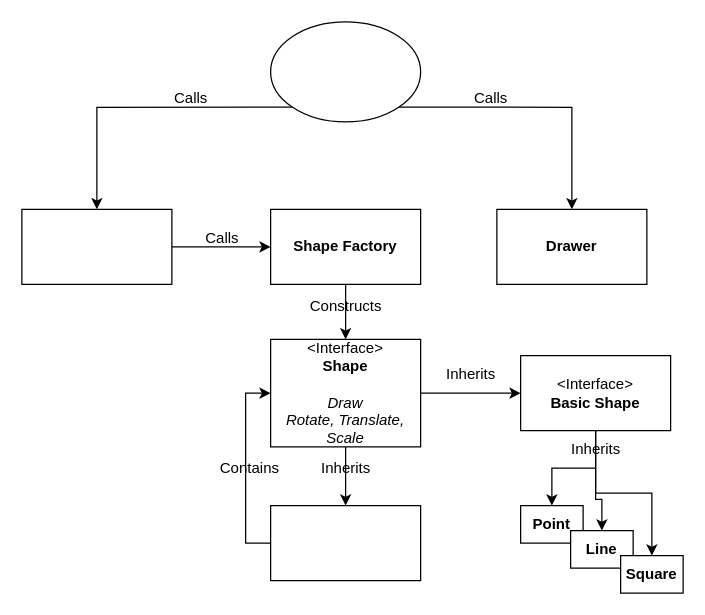
Some shapes in this 705 by 615 pixel diagram are drawn without their labels. Here are the shapes that lost their labels. From the top down, the box of each, then its label:
(269, 21, 421, 122): Main
(21, 208, 172, 284): JSON Reader
(269, 504, 421, 581): Composite
